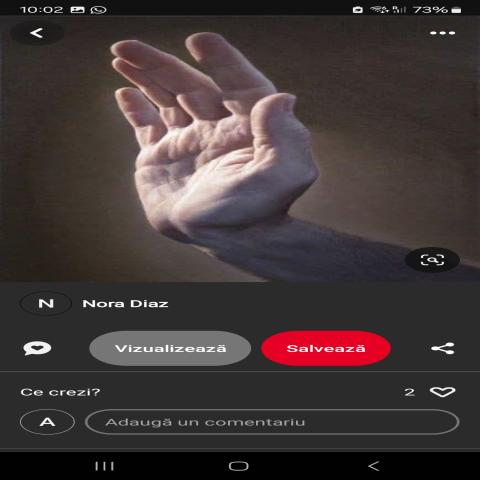hands: (73, 13, 390, 252)
